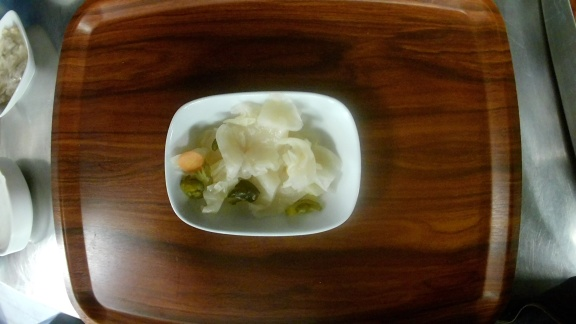tursu: (165, 92, 363, 236)
